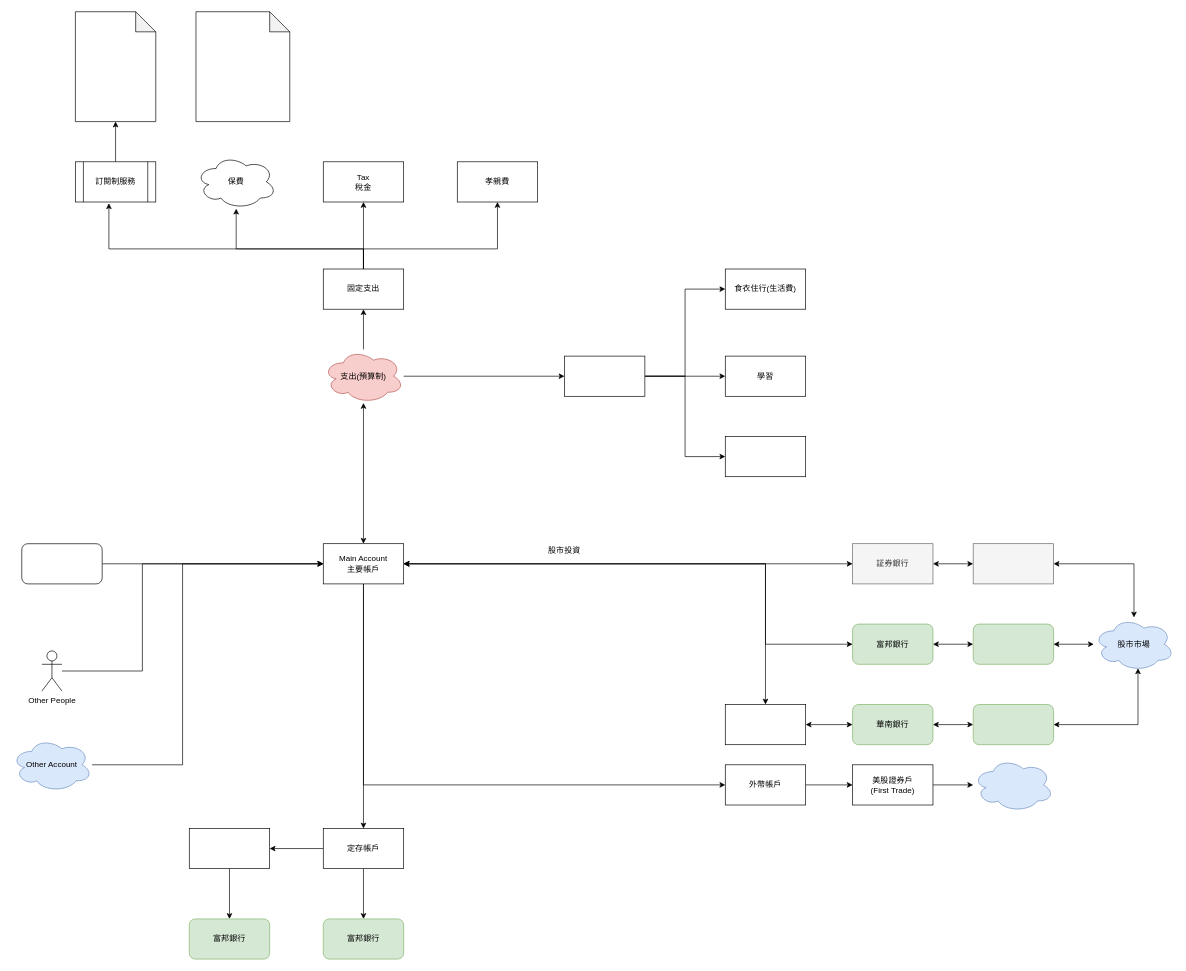
Image size: 1186x971. Some labels were removed from this diagram. The centre of each missing label's shape, as x and y in pixels:
- 域名 - 水電瓦斯 - 第四台 - 網路 - 手機費 - Spotify - Netflix: [115,66]
- 壽險/失能險 - 意外險 - 醫療險 - 重疾/癌症: [242,66]
Income Account 薪轉戶: [61,563]
富邦證券: [1013,643]
生活支出: [604,375]
緊急預備金: [229,848]
美股: [1013,784]
華南 SnY: [765,724]
華南証券: [1013,724]
証券戶: [1013,563]
